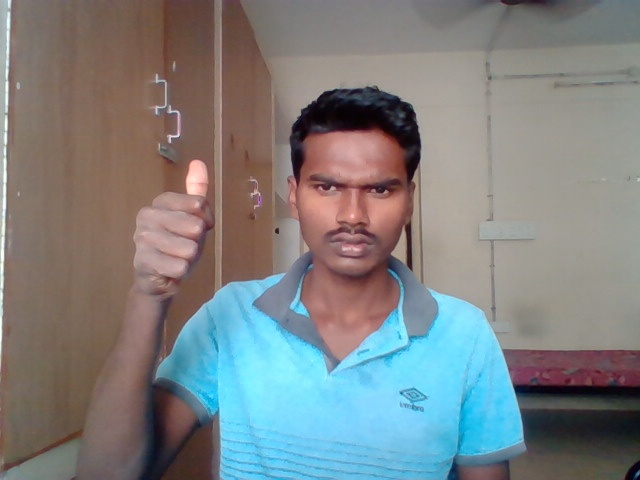Yes: (130, 158, 218, 302)
